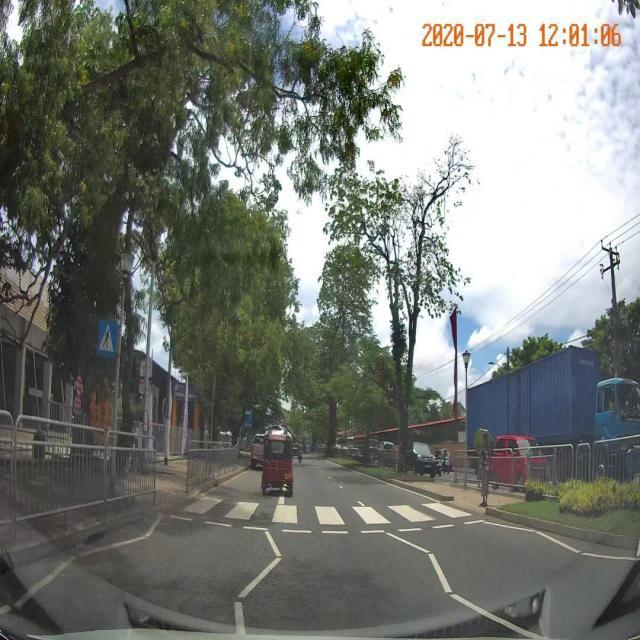Crosswalk: (178, 495, 475, 526)
